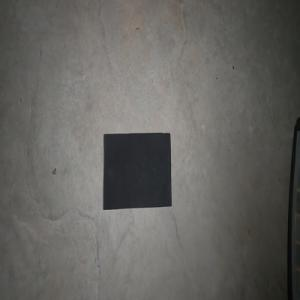PaintChip: (103, 132, 171, 210)
